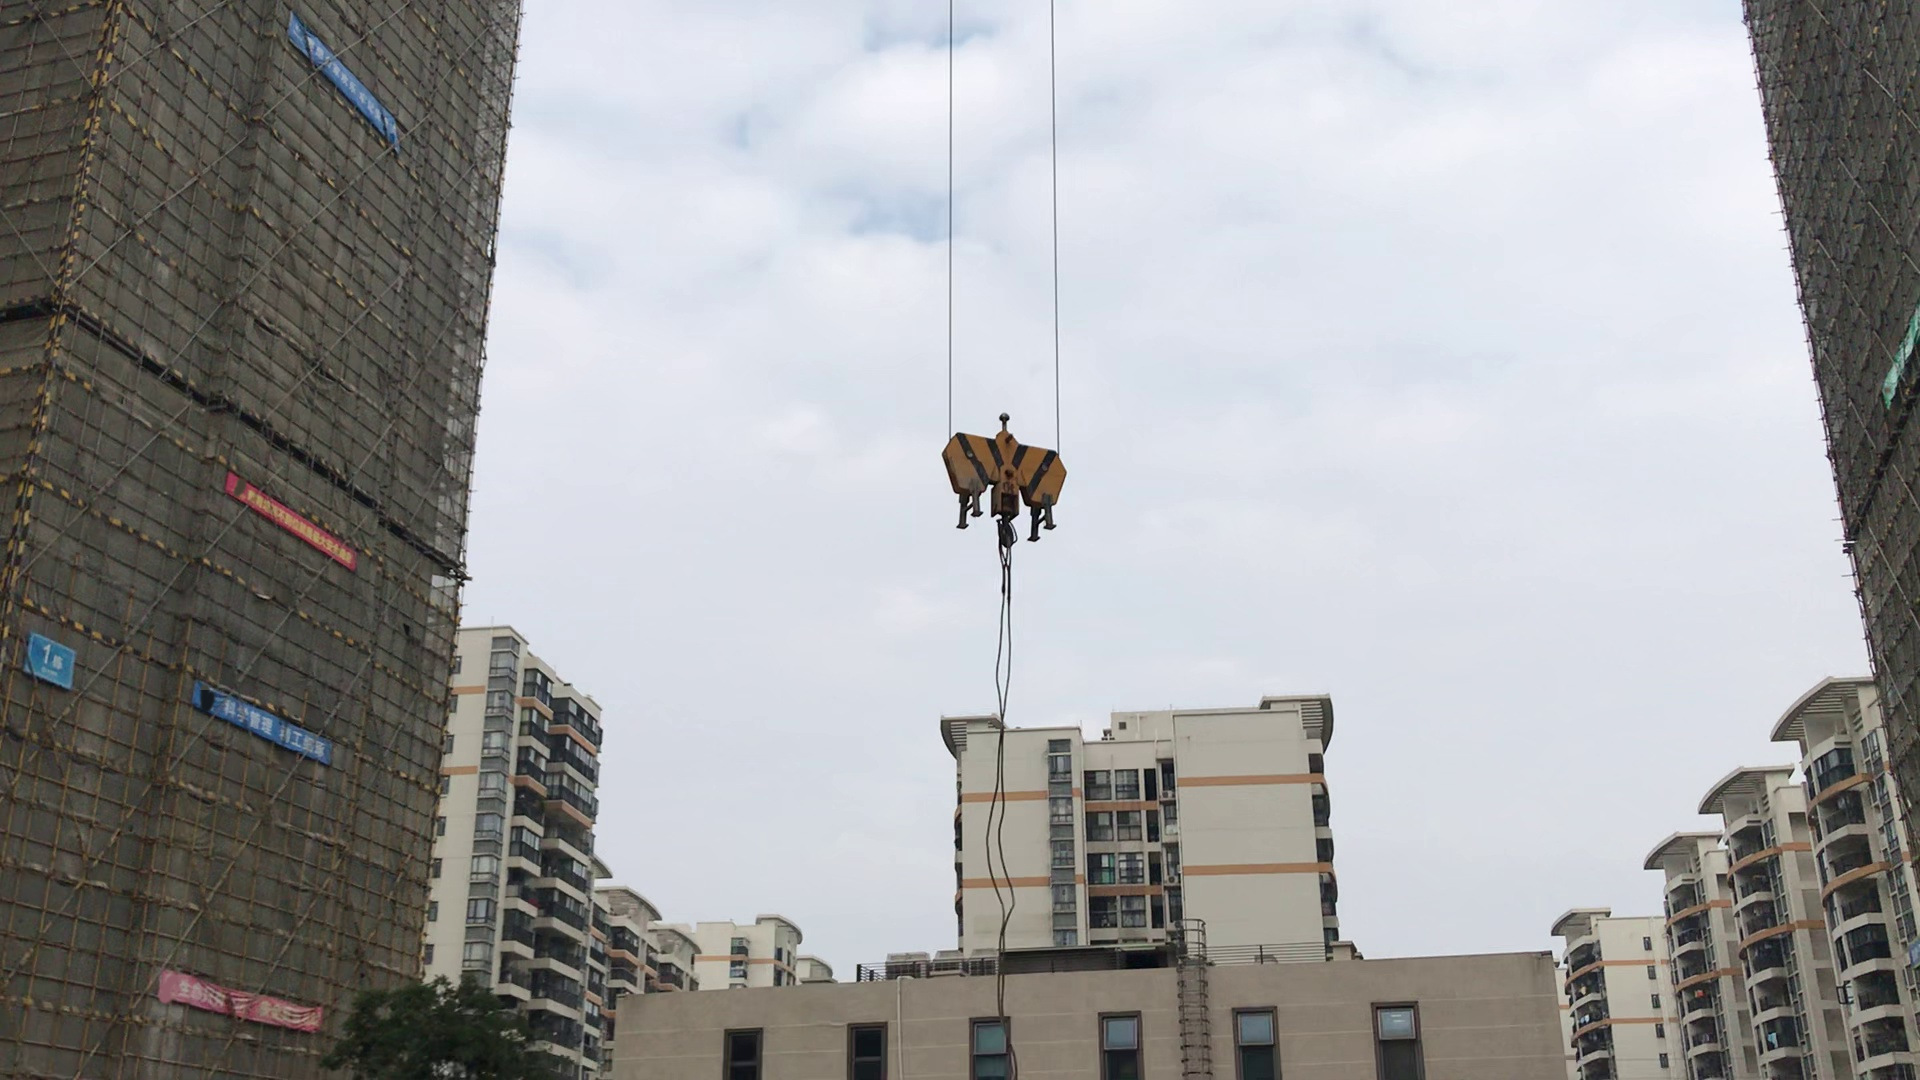hook: (942, 400, 1083, 542)
slogan: (229, 473, 357, 568), (293, 33, 400, 141), (164, 967, 335, 1034), (198, 682, 331, 764)
